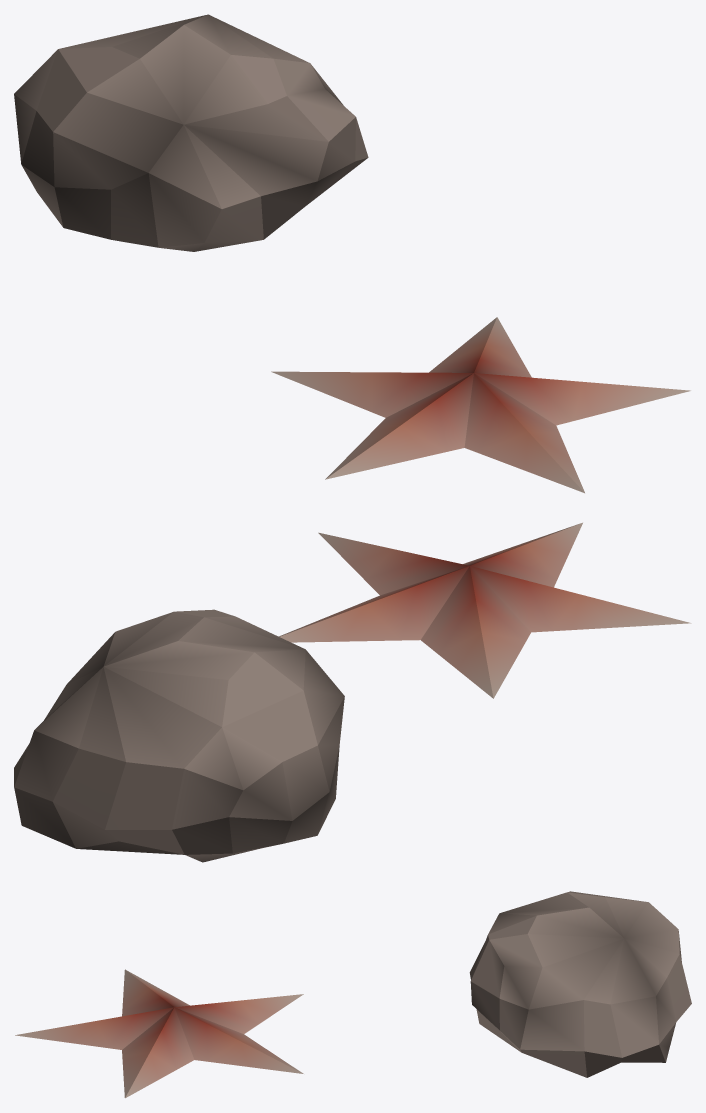
File: Cenario3.fbx
3 views of the same model, one above another, from view 1: azimuth 30°, elevation 25°; view 2: azimuth 150°, elevation 25°; view 3: azimuth 270°, elevation 25° (orthographic). The views are drawn at different scales.
Parts seen in each view (by area): view 1: Stone, Starfish; view 2: Stone, Starfish; view 3: Stone, Starfish.
Part boxes in pixels (box(x1,y1,x2,y2)): Stone: box(14, 14, 368, 251); Starfish: box(271, 317, 690, 493); Stone: box(14, 609, 344, 862); Starfish: box(279, 522, 691, 698); Stone: box(469, 891, 691, 1077); Starfish: box(15, 969, 303, 1098).
Bounding box in the file's own units: 152 × 73.86 × 338.
